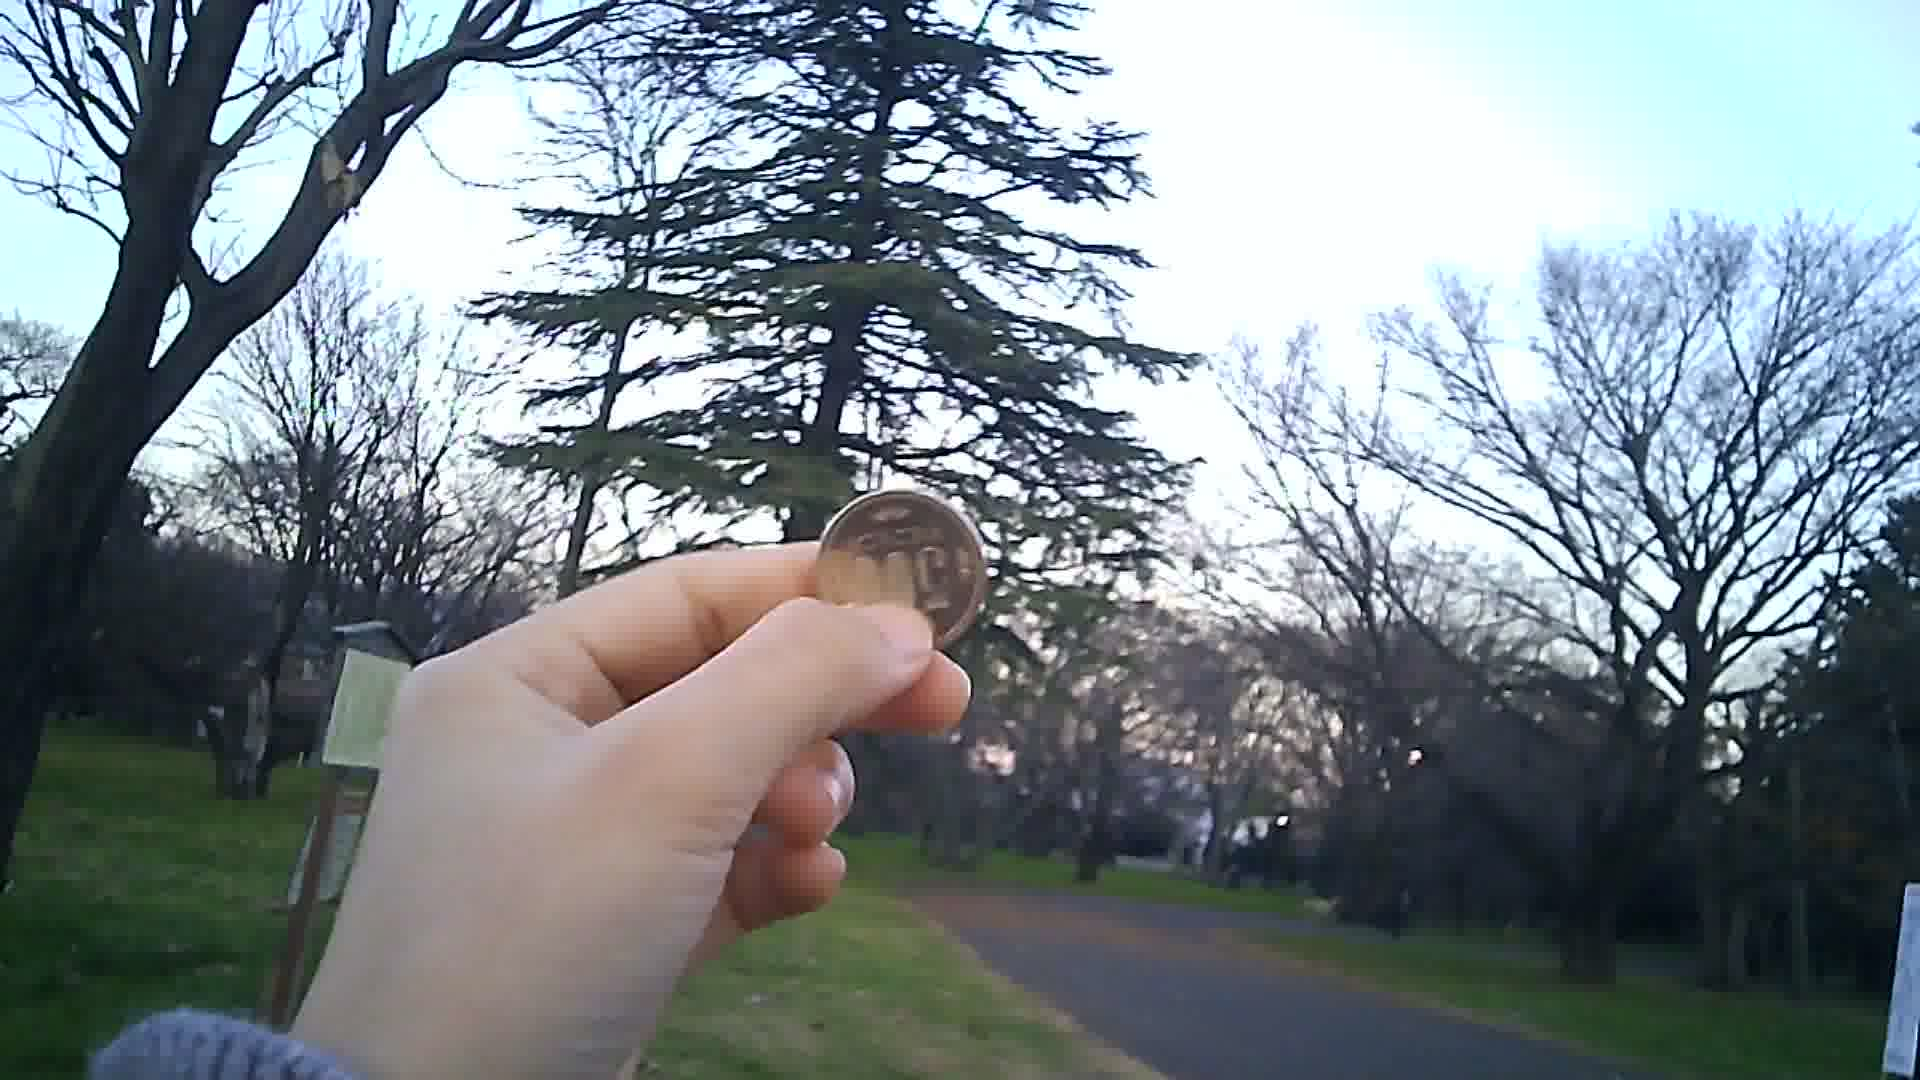500 Yen: (808, 488, 997, 657)
